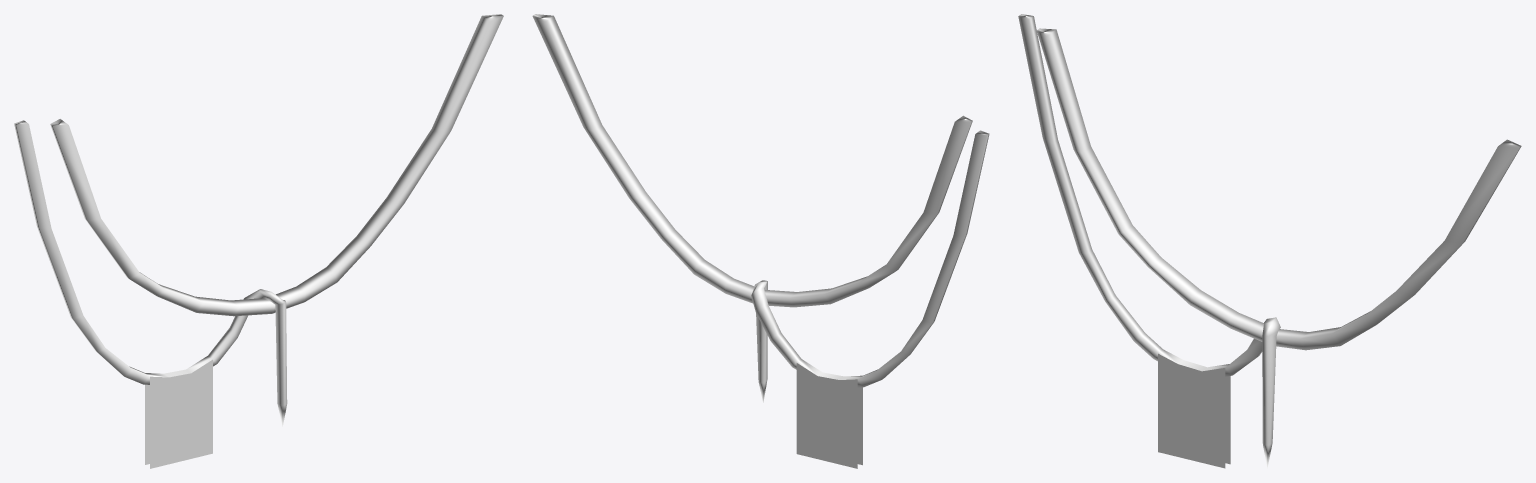
The model's file is Vines_Loose.fbx.
The picture shows the model from 3 angles, left to right: view 1: azimuth 30°, elevation 25°; view 2: azimuth 150°, elevation 25°; view 3: azimuth 330°, elevation 25°; orthographic projection. The views are drawn at different scales.
Parts seen in each view (by area): view 1: Loose_Vine_Long, Broken_Vine, Loose_Moss; view 2: Loose_Vine_Long, Broken_Vine, Loose_Moss; view 3: Loose_Vine_Long, Broken_Vine, Loose_Moss.
Boxes of the visible parts, bbox=[...] form: Loose_Vine_Long: bbox=[50, 14, 503, 316]; Broken_Vine: bbox=[14, 120, 287, 426]; Loose_Moss: bbox=[145, 359, 212, 468]; Loose_Vine_Long: bbox=[532, 14, 972, 307]; Broken_Vine: bbox=[751, 130, 989, 402]; Loose_Moss: bbox=[796, 363, 862, 468]; Loose_Vine_Long: bbox=[1036, 28, 1521, 350]; Broken_Vine: bbox=[1018, 14, 1280, 468]; Loose_Moss: bbox=[1158, 353, 1230, 468].
Bounding box in the file's own units: 11.62 × 8.71 × 0.9423.
